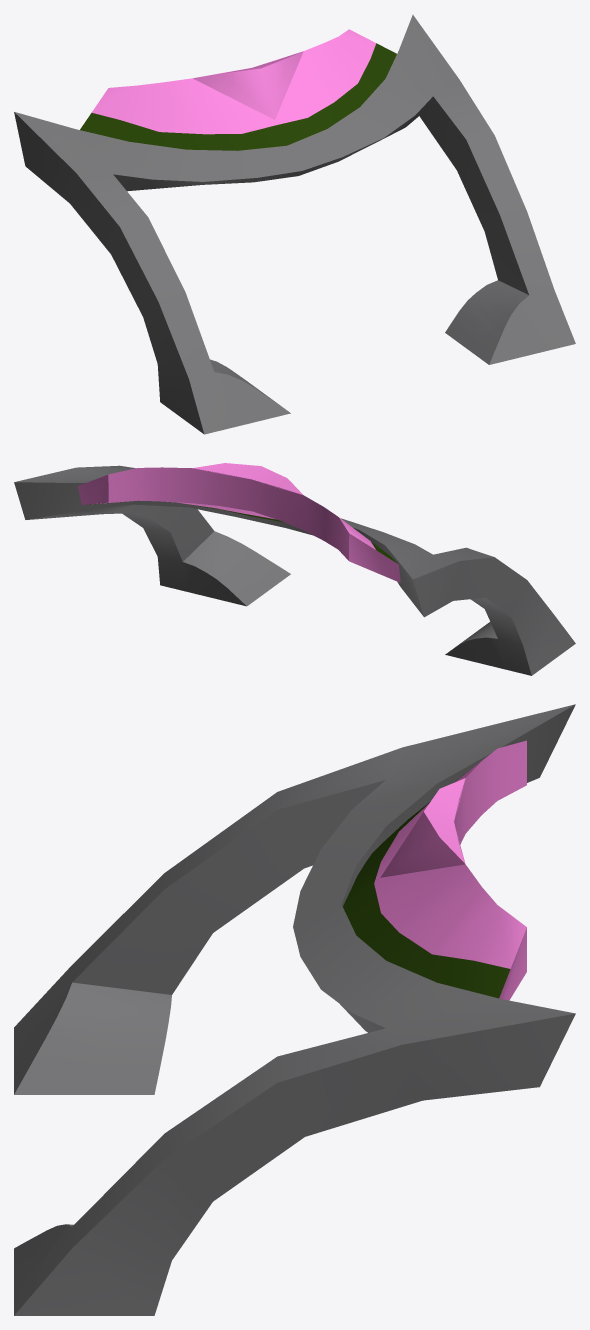
File: MuscleSpoiler02C03.gltf
3 views of the same model, one above another, from view 1: azimuth 30°, elevation 25°; view 2: azimuth 150°, elevation 25°; view 3: azimuth 270°, elevation 25° (orthographic). The views are drawn at different scales.
Parts seen in each view (by area): view 1: MuscleSpoiler02C03; view 2: MuscleSpoiler02C03; view 3: MuscleSpoiler02C03.
Part boxes in pixels (x1,y1,x2,y2): MuscleSpoiler02C03: (14, 14, 575, 434); MuscleSpoiler02C03: (14, 463, 575, 675); MuscleSpoiler02C03: (14, 704, 575, 1315).
Bounding box in the file's own units: 0.128 × 0.0694 × 0.0982.
